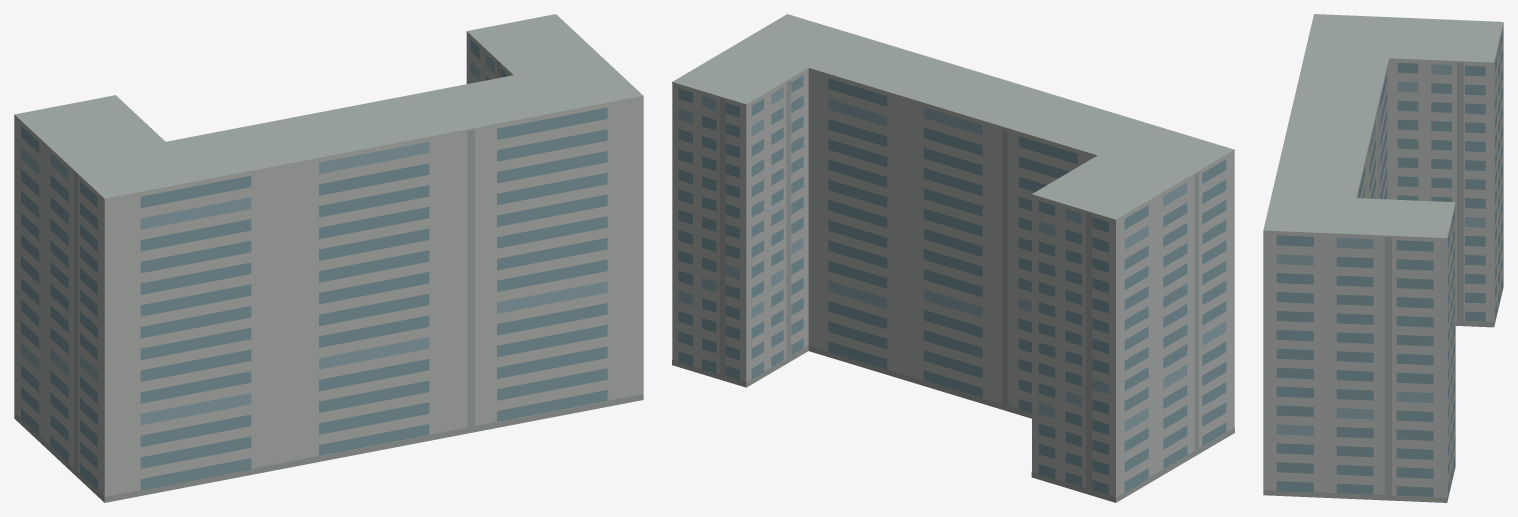
The model's file is residential-f15cda2f-7e0b-4b8f-a418-672f840ae550.glb.
3 views of the same model, side by side, from view 1: azimuth 30°, elevation 25°; view 2: azimuth 150°, elevation 25°; view 3: azimuth 270°, elevation 25° (orthographic). The views are drawn at different scales.
Parts seen in each view (by area): view 1: residential-f15cda2f-7e0b-4b8f-a418-672f840ae550.tmp; view 2: residential-f15cda2f-7e0b-4b8f-a418-672f840ae550.tmp; view 3: residential-f15cda2f-7e0b-4b8f-a418-672f840ae550.tmp.
Part boxes in pixels (<box>): residential-f15cda2f-7e0b-4b8f-a418-672f840ae550.tmp: <box>14,14,643,502</box>; residential-f15cda2f-7e0b-4b8f-a418-672f840ae550.tmp: <box>672,14,1234,502</box>; residential-f15cda2f-7e0b-4b8f-a418-672f840ae550.tmp: <box>1263,14,1503,502</box>.
Bounding box in the file's own units: 88.97 × 49 × 40.33.
